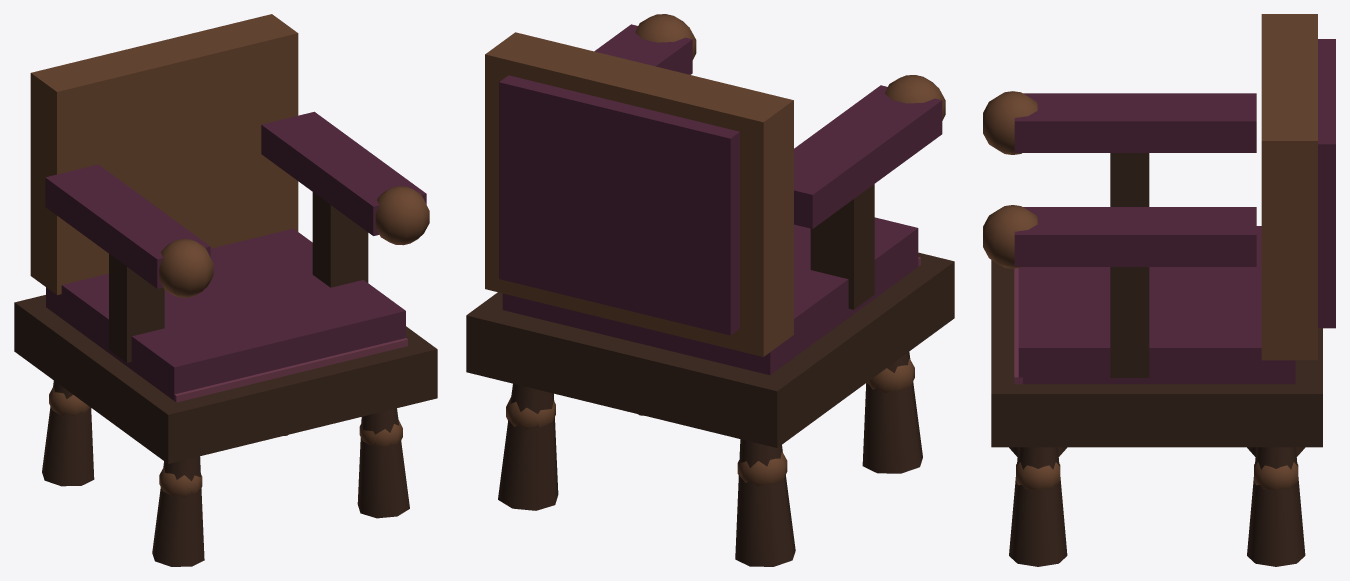
The model's file is armchair.glb.
3 renders of one model, left to right at view 1: azimuth 30°, elevation 25°; view 2: azimuth 150°, elevation 25°; view 3: azimuth 270°, elevation 25°, orthographic. The views are drawn at different scales.
Bounding box in the file's own units: 0.86 × 1.2 × 0.904.
